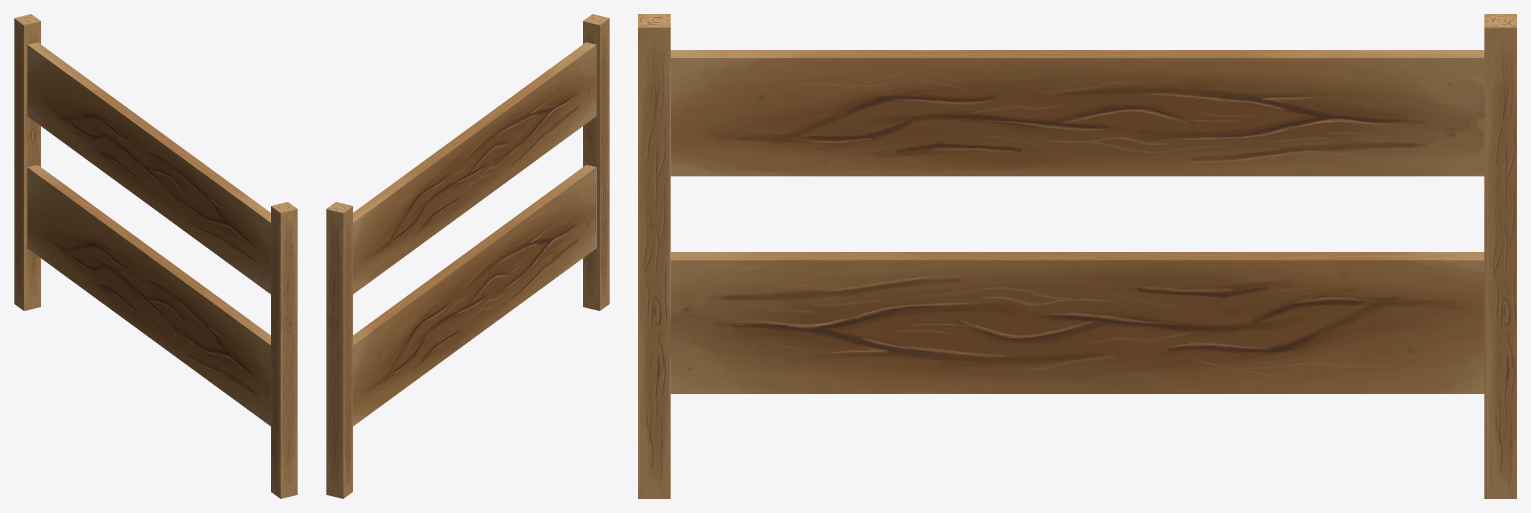
File: fence.glb
3 renders of one model, left to right at view 1: azimuth 30°, elevation 25°; view 2: azimuth 150°, elevation 25°; view 3: azimuth 270°, elevation 25°, orthographic. The views are drawn at different scales.
Visible parts, largest first — view 1: pCube3; view 2: pCube3; view 3: pCube3.
Part boxes in pixels (x1,y1,x2,y2): pCube3: [14, 14, 297, 498]; pCube3: [326, 14, 609, 498]; pCube3: [638, 14, 1516, 498].
Bounding box in the file's own units: 5 × 80 × 135.
Materials: 1 (1 with a texture image).
